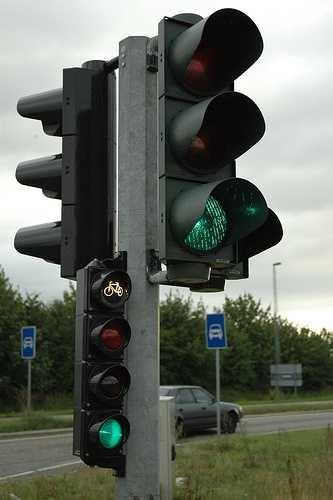green: (158, 19, 258, 282), (77, 309, 134, 472), (166, 178, 246, 262), (85, 411, 129, 464)
